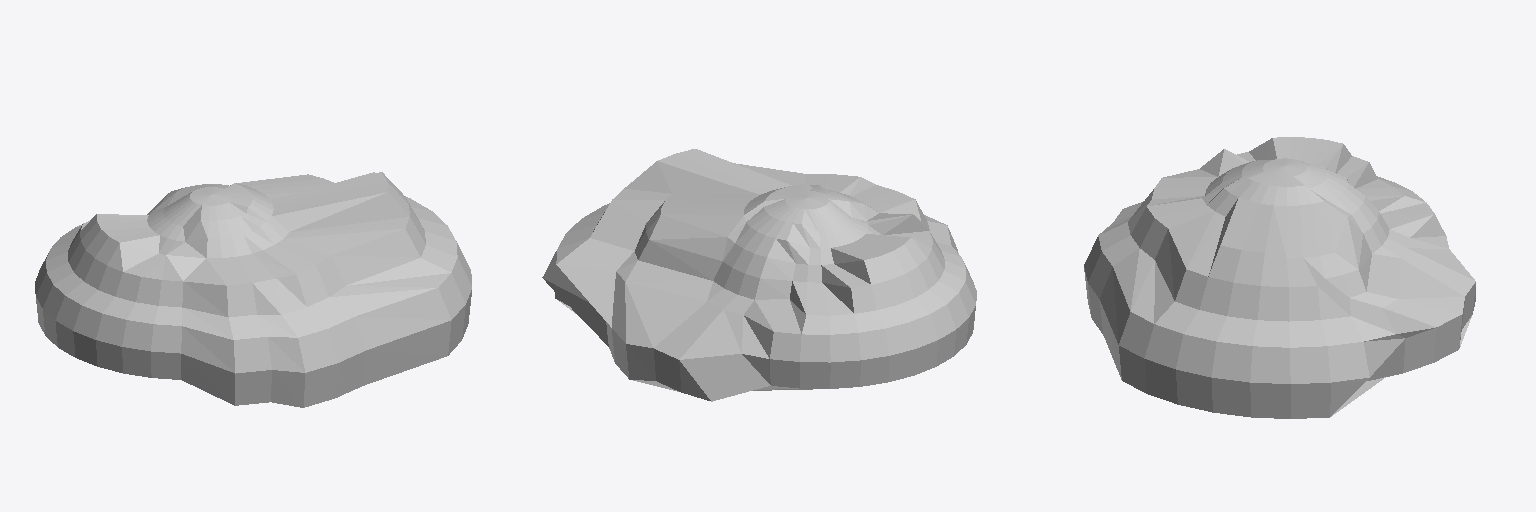
File: foodlump.obj
The picture shows the model from 3 angles: view 1: azimuth 30°, elevation 25°; view 2: azimuth 150°, elevation 25°; view 3: azimuth 270°, elevation 25°; orthographic projection.
Parts seen in each view (by area): view 1: Sphere; view 2: Sphere; view 3: Sphere.
Part boxes in pixels (x1,y1,x2,y2): Sphere: (35,172,471,407); Sphere: (542,149,976,401); Sphere: (1084,137,1475,418).
Size of the model in its own units: 1.6 by 0.5504 by 1.4.